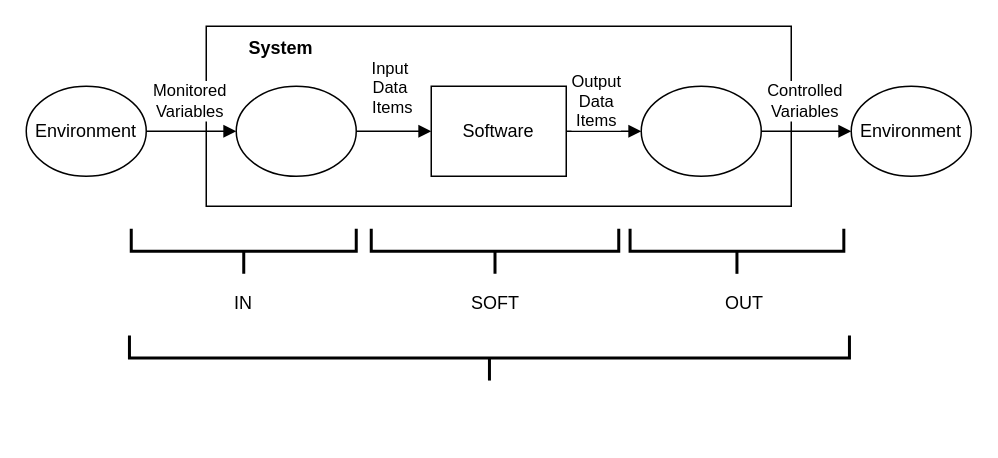
Some shapes in this 998 by 458 pixel diagram are drawn without their labels. Each missing label, with the centre of its shape:
"Input Devices" belongs at (x=295, y=130).
"Output Devices" belongs at (x=700, y=130).
"REQ and NAT" belongs at (x=488, y=357).
